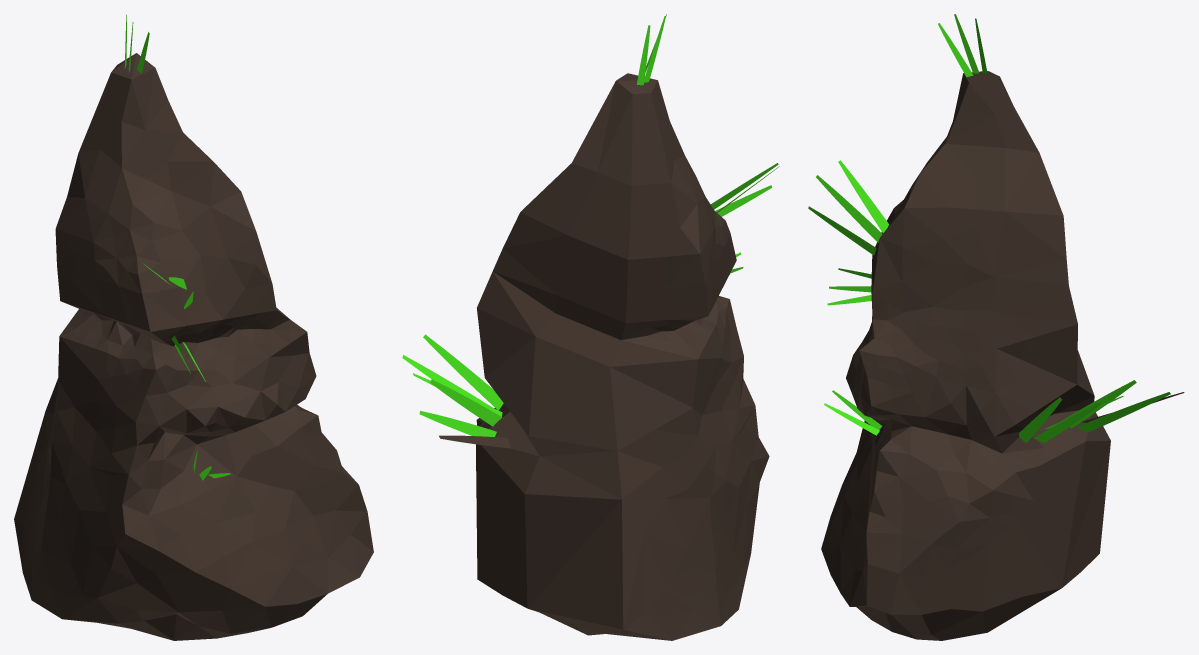
File: Rock2.fbx
The picture shows the model from 3 angles, left to right: view 1: azimuth 30°, elevation 25°; view 2: azimuth 150°, elevation 25°; view 3: azimuth 270°, elevation 25°; orthographic projection. The views are drawn at different scales.
Parts seen in each view (by area): view 1: Cube.001; view 2: Cube.001; view 3: Cube.001.
Part boxes in pixels (x1=…): Cube.001: x1=14, y1=14, x2=373, y2=640; Cube.001: x1=402, y1=14, x2=779, y2=640; Cube.001: x1=808, y1=14, x2=1184, y2=640.
Bounding box in the file's own units: 2.01 × 4.32 × 2.56.
